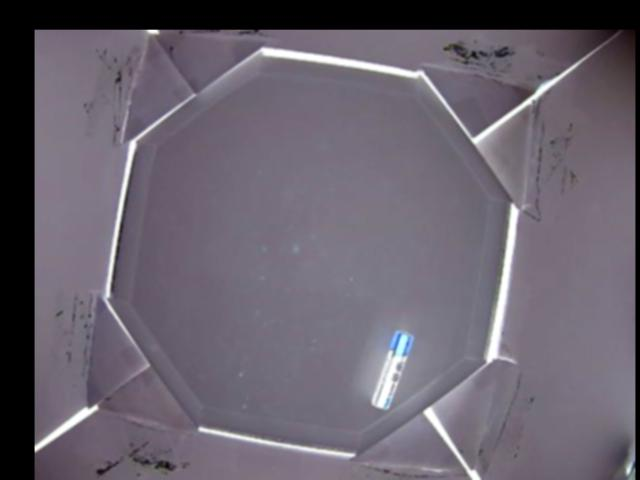Battery: (371, 329, 411, 412)
